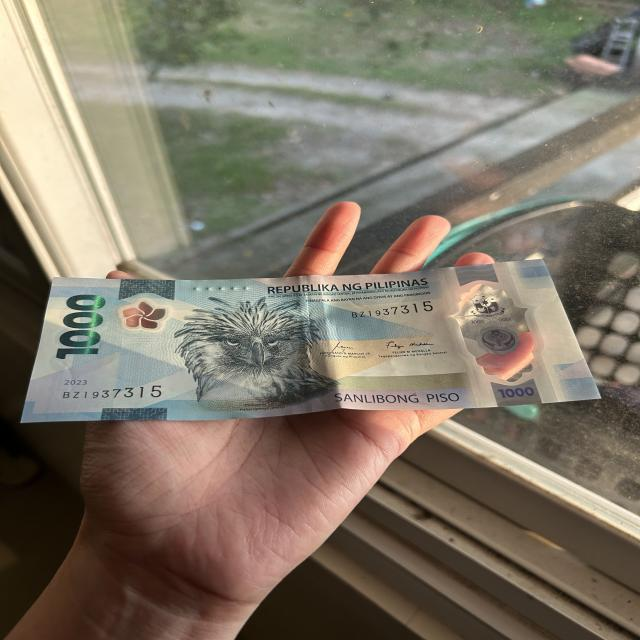clear_window: (453, 279, 536, 382)
eagle: (180, 294, 326, 406)
sampaguita: (117, 298, 172, 330)
